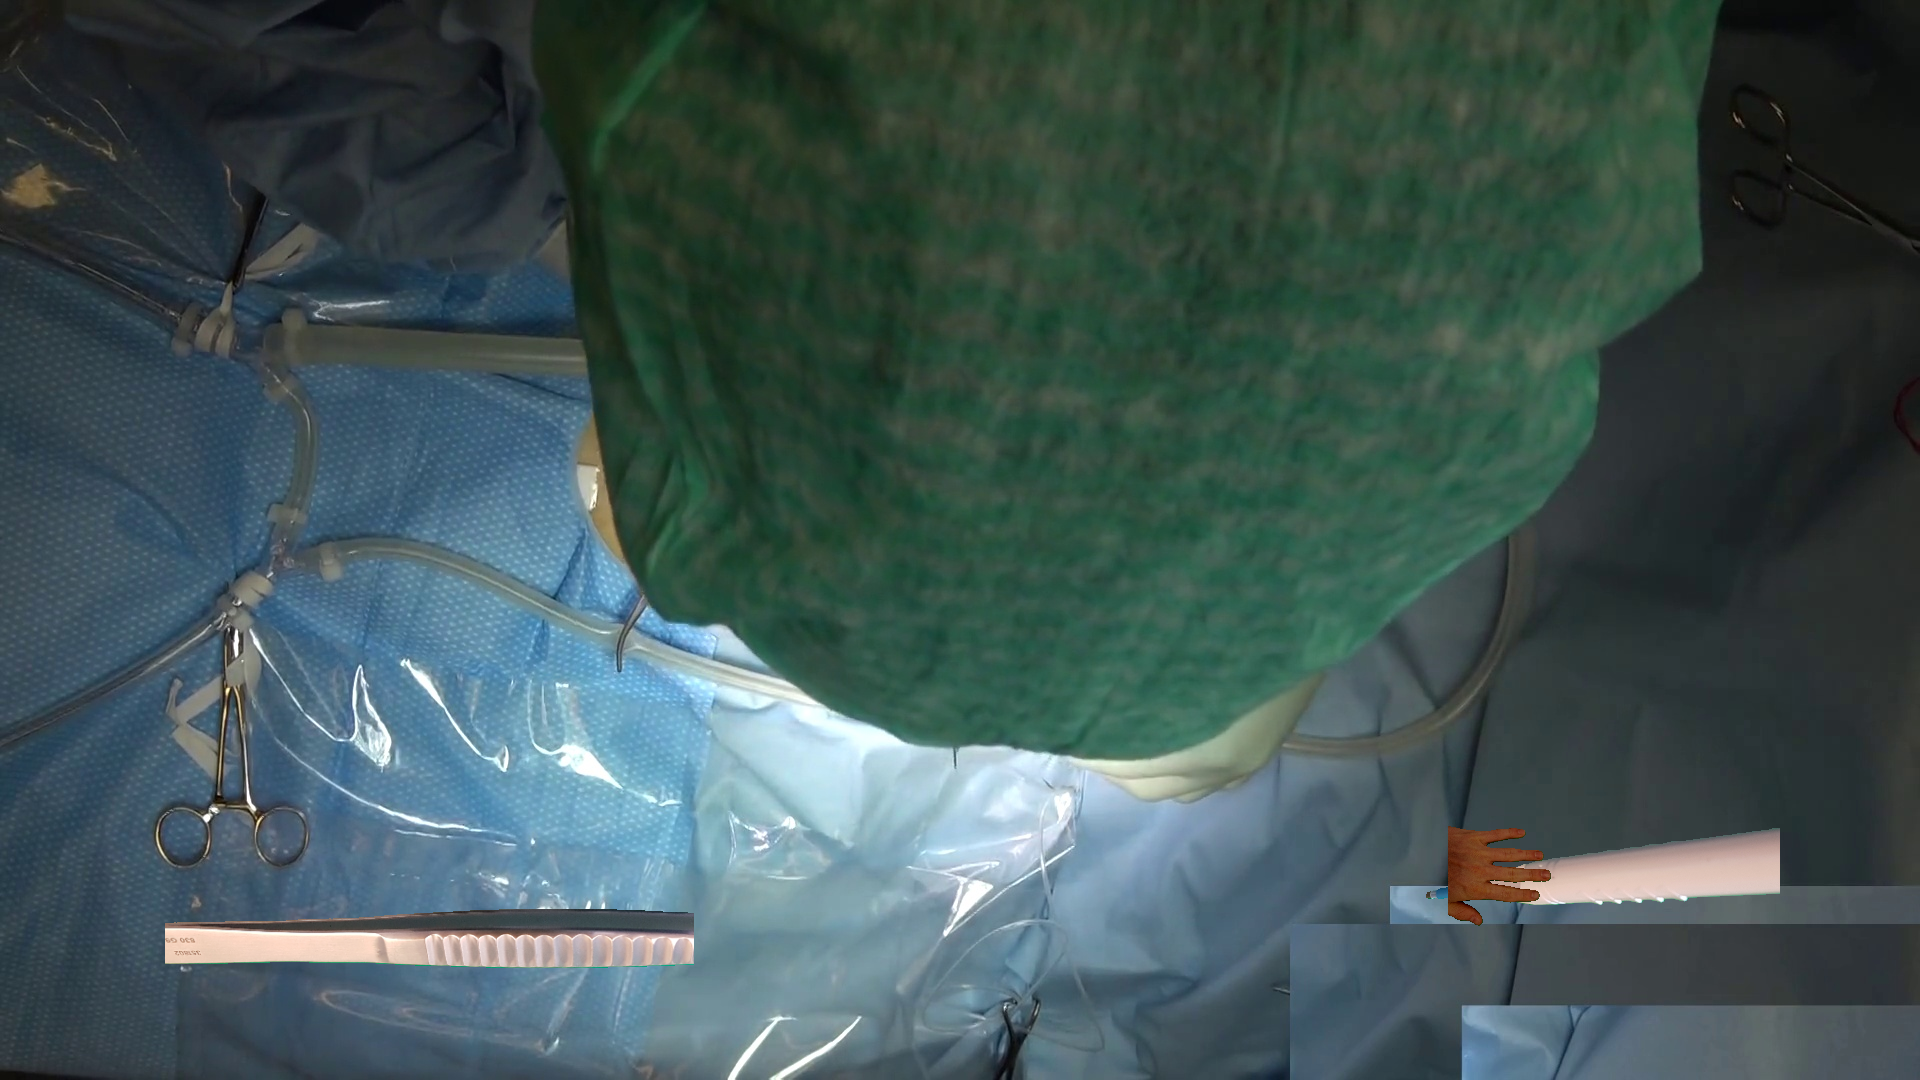diathermy: (165, 909, 694, 967), (1425, 828, 1779, 905)
